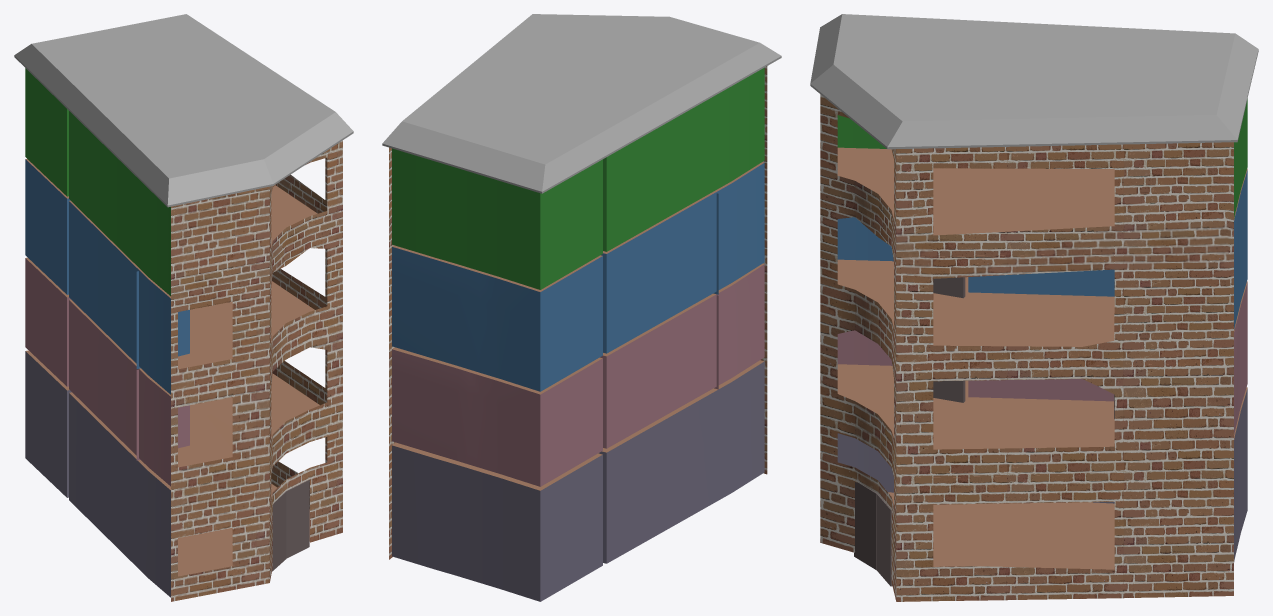
File: Right Buildinasdsadg.fbx
3 views of the same model, side by side, from view 1: azimuth 30°, elevation 25°; view 2: azimuth 150°, elevation 25°; view 3: azimuth 270°, elevation 25° (orthographic). The views are drawn at different scales.
Visible parts, largest first — view 1: pCube164; view 2: pCube164; view 3: pCube164.
Boxes of the visible parts, x1,y1,x2,y2 form: pCube164: (14,14,353,601); pCube164: (382,14,781,601); pCube164: (810,14,1258,601).
Bounding box in the file's own units: 38.36 × 72.03 × 60.65.
